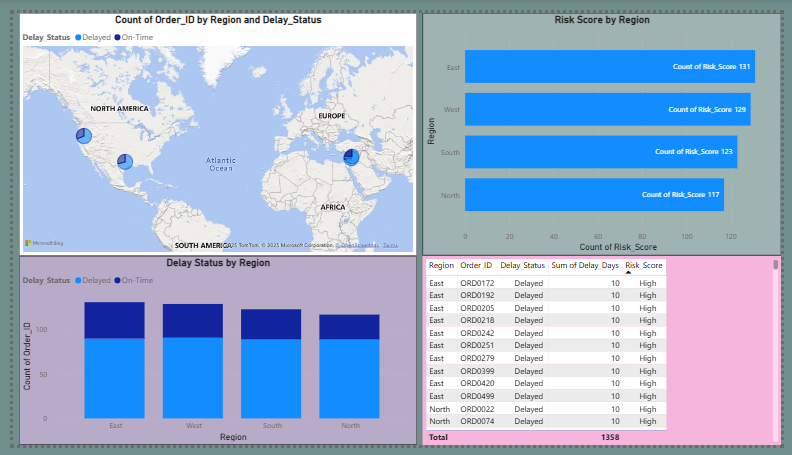

What the dashboard file says about the page in this screenshot:
{"tool":"powerbi","page":{"name":"Region Analysis","canvas":[1280,720],"ordinal":2},"visuals":[{"type":"map","fields":{"Category":["supply_chain_data.Region"],"Series":["supply_chain_data.Delay_Status"],"Size":["CountNonNull(supply_chain_data.Order_ID)"]},"box":[9.4,0,663.3,404.4],"z":0},{"type":"columnChart","title":"Delay Status by Region","fields":{"Category":["supply_chain_data.Region"],"Series":["supply_chain_data.Delay_Status"],"Y":["CountNonNull(supply_chain_data.Order_ID)"]},"box":[10,404.3,663.2,314.7],"z":1},{"type":"clusteredBarChart","title":"Risk Score by Region","fields":{"Category":["supply_chain_data.Region"],"Y":["CountNonNull(supply_chain_data.Risk_Score)"]},"box":[682,0,598,404],"z":2},{"type":"tableEx","fields":{"Values":["supply_chain_data.Region","supply_chain_data.Order_ID","supply_chain_data.Delay_Status","Sum(supply_chain_data.Delay_Days)","supply_chain_data.Risk_Score"]},"box":[682,404,598,315],"z":3}]}

Visuals, with their boxes in screenshot pixels (x1, y1, x2, y2), scaled from the page's 1280x720 canvas onto the 792x455 screenshot:
map - supply_chain_data.Region x supply_chain_data.Delay_Status: (6, 0, 416, 256)
"Delay Status by Region" columnChart: (6, 255, 417, 454)
"Risk Score by Region" clusteredBarChart: (422, 0, 791, 255)
tableEx - supply_chain_data.Region x supply_chain_data.Order_ID: (422, 255, 791, 454)
